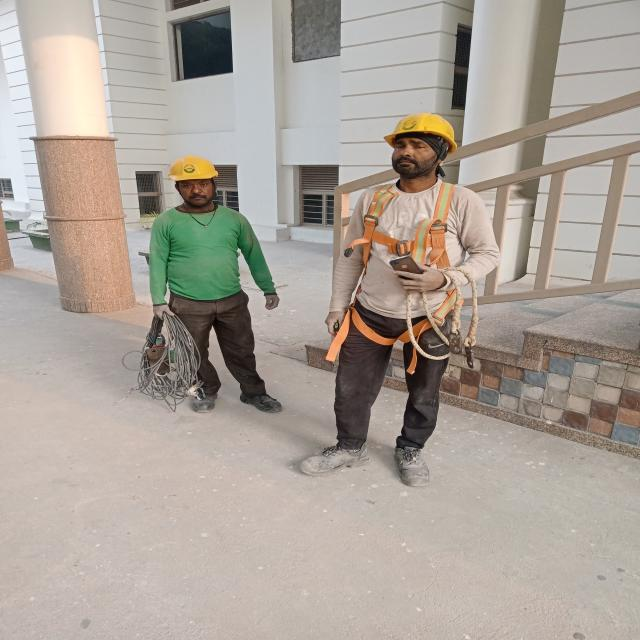no jacket: (303, 111, 504, 489), (147, 156, 288, 415)
